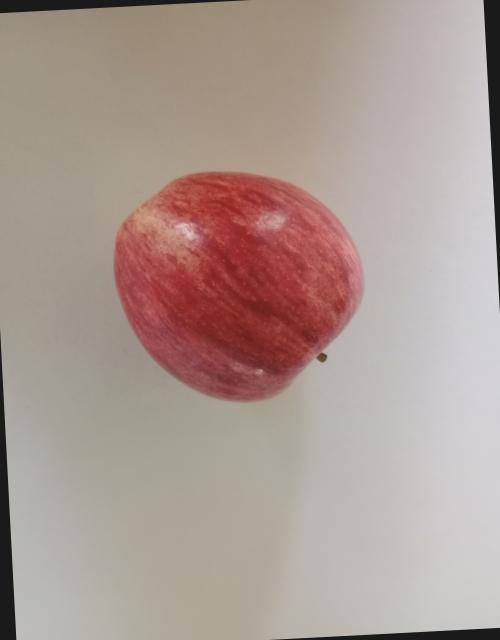Manzana: (81, 82, 401, 444)
